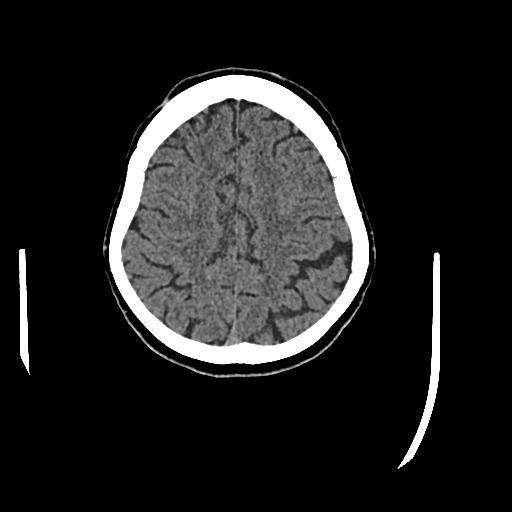Normal_Brain: (100, 68, 380, 386)
